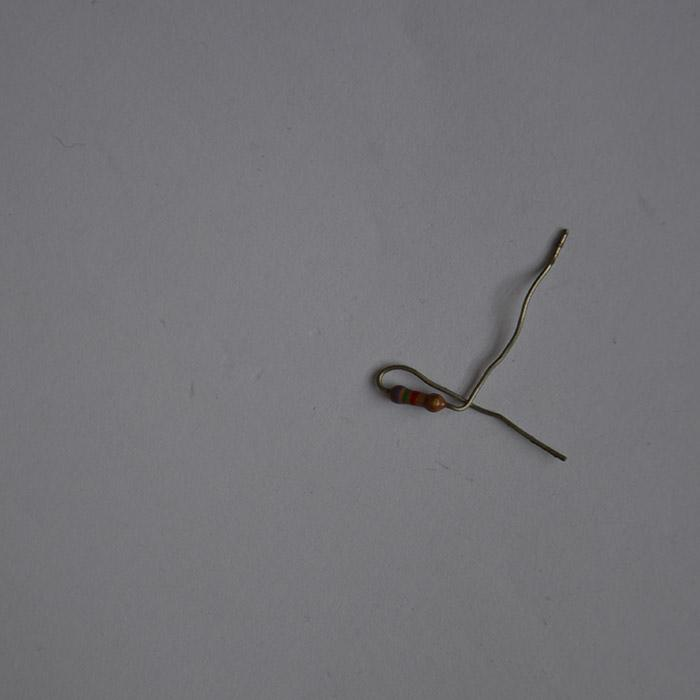resistor: (388, 383, 445, 412)
